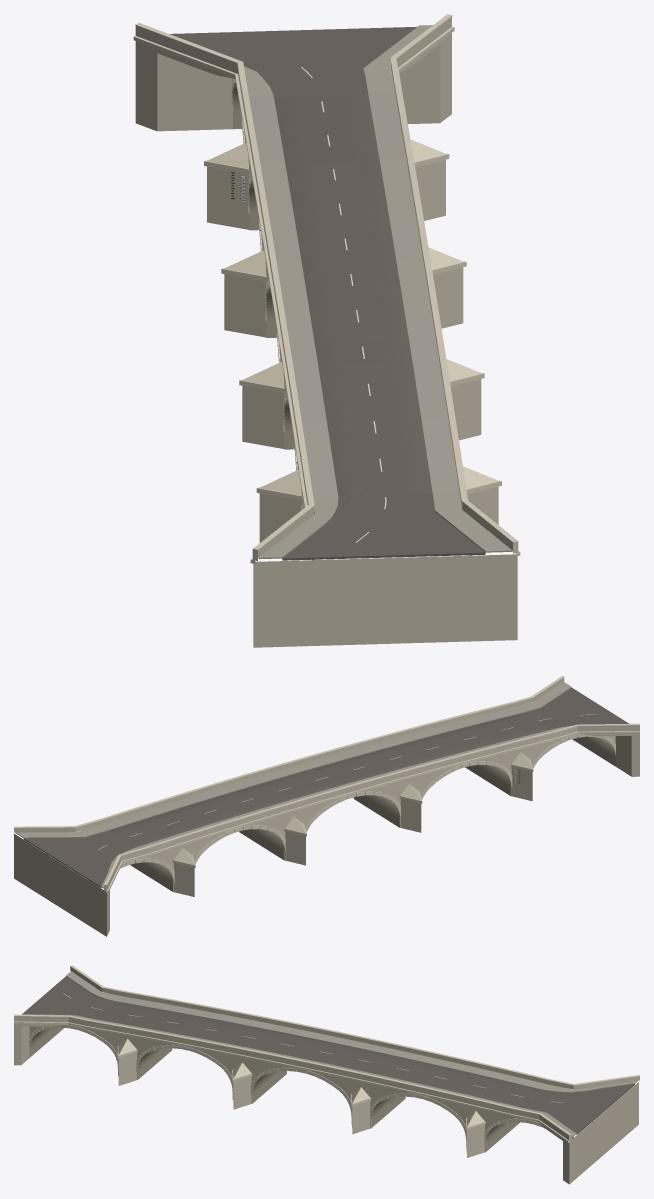
The model's file is pont-royal-near.glb.
3 views of the same model, one above another, from view 1: azimuth 30°, elevation 25°; view 2: azimuth 150°, elevation 25°; view 3: azimuth 270°, elevation 25° (orthographic). The views are drawn at different scales.
Parts seen in each view (by area): view 1: pont-royal-0-masonry, pont-royal-0-setts, pont-royal-1-setts, pont-royal-0-walk, pont-royal-1-masonry, pont-royal-1-trim, pont-royal-1-stone, pont-royal-1-ring, pont-royal-0-ring; view 2: pont-royal-1-setts, pont-royal-0-setts, pont-royal-1-masonry, pont-royal-0-walk, pont-royal-0-masonry, pont-royal-1-stone, pont-royal-1-trim, pont-royal-0-glow, pont-royal-1-glow, pont-royal-0-ring, pont-royal-1-ring; view 3: pont-royal-1-setts, pont-royal-0-setts, pont-royal-1-stone, pont-royal-0-walk, pont-royal-0-masonry, pont-royal-1-masonry, pont-royal-1-trim, pont-royal-0-glow, pont-royal-0-ring, pont-royal-1-ring, pont-royal-1-glow.
Part boxes in pixels (x1,y1,x2,y2): pont-royal-0-masonry: (242, 133, 517, 647); pont-royal-0-setts: (282, 285, 485, 560); pont-royal-1-setts: (170, 26, 417, 288); pont-royal-0-walk: (244, 25, 512, 559); pont-royal-1-masonry: (135, 33, 463, 337); pont-royal-1-trim: (133, 14, 519, 559); pont-royal-1-stone: (135, 17, 512, 558); pont-royal-1-ring: (204, 70, 466, 320); pont-royal-0-ring: (239, 320, 501, 560); pont-royal-1-setts: (23, 768, 341, 887); pont-royal-0-setts: (315, 687, 629, 784); pont-royal-1-masonry: (14, 816, 305, 936); pont-royal-0-walk: (16, 682, 571, 887); pont-royal-0-masonry: (88, 733, 639, 892); pont-royal-1-stone: (14, 678, 639, 890); pont-royal-1-trim: (14, 676, 639, 892); pont-royal-0-glow: (353, 736, 615, 827); pont-royal-1-glow: (130, 829, 284, 891); pont-royal-0-ring: (347, 734, 615, 819); pont-royal-1-ring: (94, 796, 347, 885); pont-royal-1-setts: (310, 1042, 634, 1134); pont-royal-0-setts: (22, 976, 329, 1059); pont-royal-1-stone: (14, 967, 639, 1140); pont-royal-0-walk: (21, 971, 636, 1137); pont-royal-0-masonry: (14, 1023, 573, 1152); pont-royal-1-masonry: (352, 1082, 638, 1184); pont-royal-1-trim: (14, 965, 639, 1142); pont-royal-0-glow: (29, 1027, 286, 1103); pont-royal-0-ring: (29, 1024, 306, 1095); pont-royal-1-ring: (306, 1070, 545, 1143); pont-royal-1-glow: (371, 1096, 519, 1151).
Size of the model in its own units: 85.16 by 12.37 by 132.
